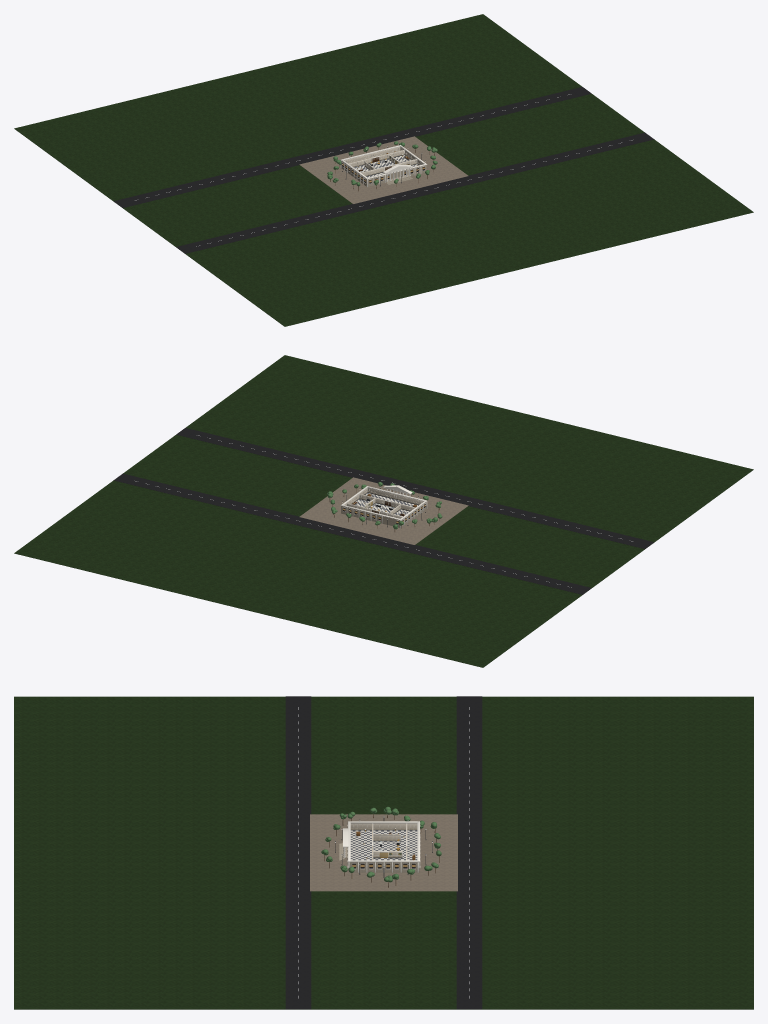
File: hd-world-0.glb
The picture shows the model from 3 angles, top to bottom: view 1: azimuth 30°, elevation 25°; view 2: azimuth 150°, elevation 25°; view 3: azimuth 270°, elevation 25°; orthographic projection. The views are drawn at different scales.
Parts seen in each view (by area): view 1: Static; view 2: Static, Wall_outer_1; view 3: Static, Floor, Wall_outer_2, Wall_outer_3.
Boxes of the visible parts, x1,y1,x2,y2 form: Static: [14, 14, 753, 326]; Static: [14, 355, 753, 667]; Wall_outer_1: [340, 505, 401, 528]; Static: [14, 696, 753, 1009]; Floor: [350, 830, 417, 860]; Wall_outer_2: [349, 860, 418, 872]; Wall_outer_3: [349, 821, 417, 830].
Size of the model in its own units: 260 by 8.12 by 260.
23 materials, 15 textured.
